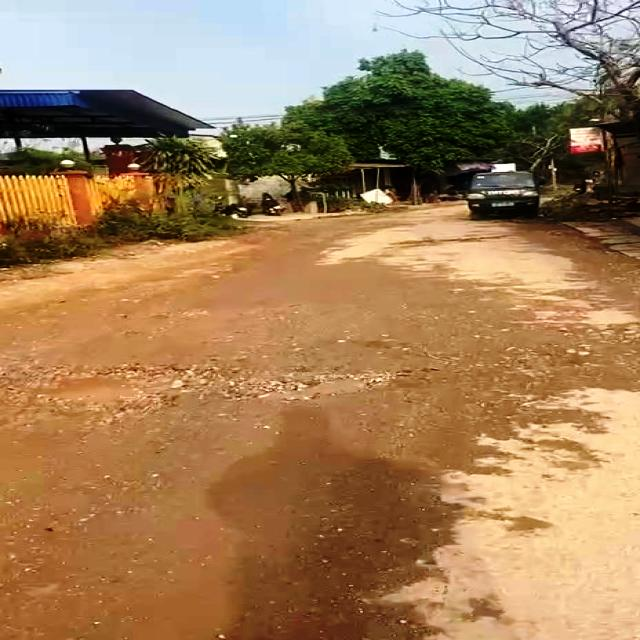pothole: (14, 364, 214, 422), (244, 368, 407, 400)
